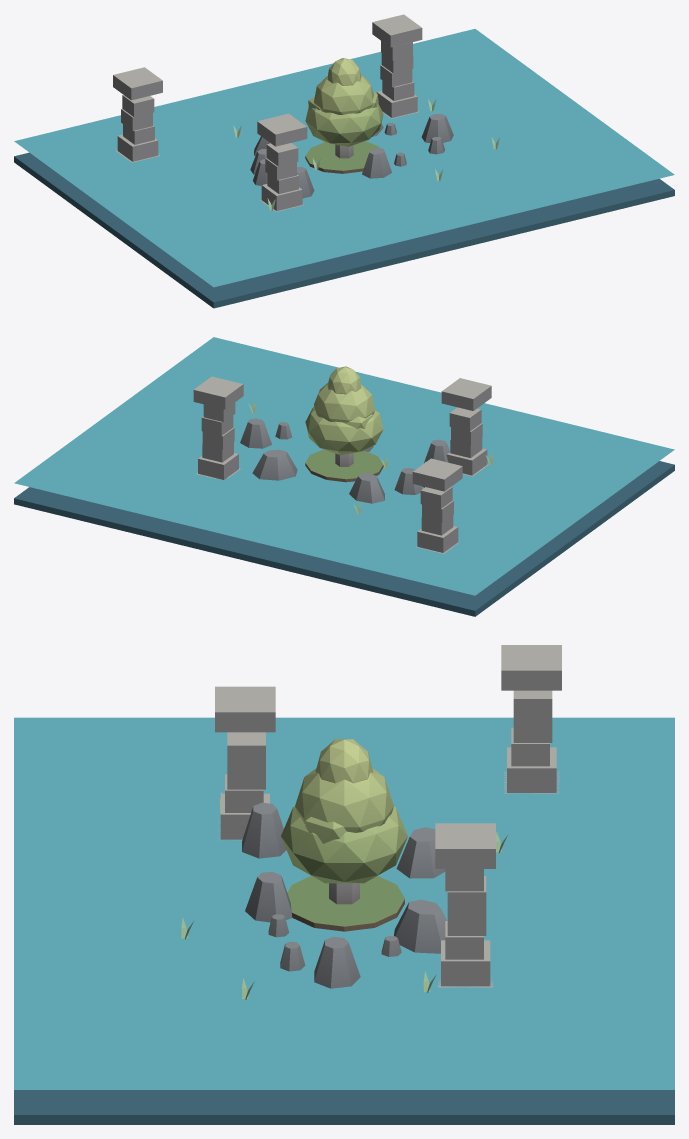
Rendered from lago_ruinas.glb.
3 views of the same model, one above another, from view 1: azimuth 30°, elevation 25°; view 2: azimuth 150°, elevation 25°; view 3: azimuth 270°, elevation 25° (orthographic). The views are drawn at different scales.
Visible parts, largest first — view 1: Water_Surface, Riverbed, Tree_Canopy, Ruin_Pillar_NE, Ruin_Pillar_SW, Ruin_Pillar_NW, Soil_Island, Rock_Center_Front, Rock_East_1; view 2: Water_Surface, Riverbed, Tree_Canopy, Ruin_Pillar_NE, Ruin_Pillar_NW, Ruin_Pillar_SW, Soil_Island, Rock_NE_Big, Rock_NW_Big, Rock_East_1, Rock_West_1; view 3: Water_Surface, Riverbed, Tree_Canopy, Ruin_Pillar_NE, Ruin_Pillar_NW, Ruin_Pillar_SW, Soil_Island, Rock_NE_Big, Rock_SW_NearPillar, Rock_East_1, Rock_Center_Front, Rock_NW_Big.
Part boxes in pixels (<box>): Water_Surface: <box>14,29,674,287</box>; Riverbed: <box>14,152,674,308</box>; Tree_Canopy: <box>305,58,383,146</box>; Ruin_Pillar_NE: <box>372,14,422,118</box>; Ruin_Pillar_SW: <box>257,113,307,211</box>; Ruin_Pillar_NW: <box>113,67,162,162</box>; Soil_Island: <box>305,141,379,173</box>; Rock_Center_Front: <box>362,148,391,178</box>; Rock_East_1: <box>421,114,453,142</box>; Water_Surface: <box>14,337,674,595</box>; Riverbed: <box>14,461,674,616</box>; Tree_Canopy: <box>305,366,383,455</box>; Ruin_Pillar_NE: <box>193,376,243,479</box>; Ruin_Pillar_NW: <box>412,458,462,553</box>; Ruin_Pillar_SW: <box>441,378,491,476</box>; Soil_Island: <box>305,449,383,482</box>; Rock_NE_Big: <box>252,449,297,480</box>; Rock_NW_Big: <box>349,473,384,503</box>; Rock_East_1: <box>240,418,271,448</box>; Rock_West_1: <box>394,468,422,494</box>; Water_Surface: <box>14,717,674,1089</box>; Riverbed: <box>14,1090,674,1124</box>; Tree_Canopy: <box>281,739,407,883</box>; Ruin_Pillar_NE: <box>435,823,495,987</box>; Ruin_Pillar_NW: <box>501,645,561,793</box>; Ruin_Pillar_SW: <box>215,686,275,840</box>; Soil_Island: <box>287,876,404,931</box>; Rock_NE_Big: <box>394,899,446,953</box>; Rock_SW_NearPillar: <box>242,802,286,858</box>; Rock_East_1: <box>314,937,360,988</box>; Rock_Center_Front: <box>245,872,292,922</box>; Rock_NW_Big: <box>396,827,445,878</box>.
Bounding box in the file's own units: 16 × 3.99 × 12.
